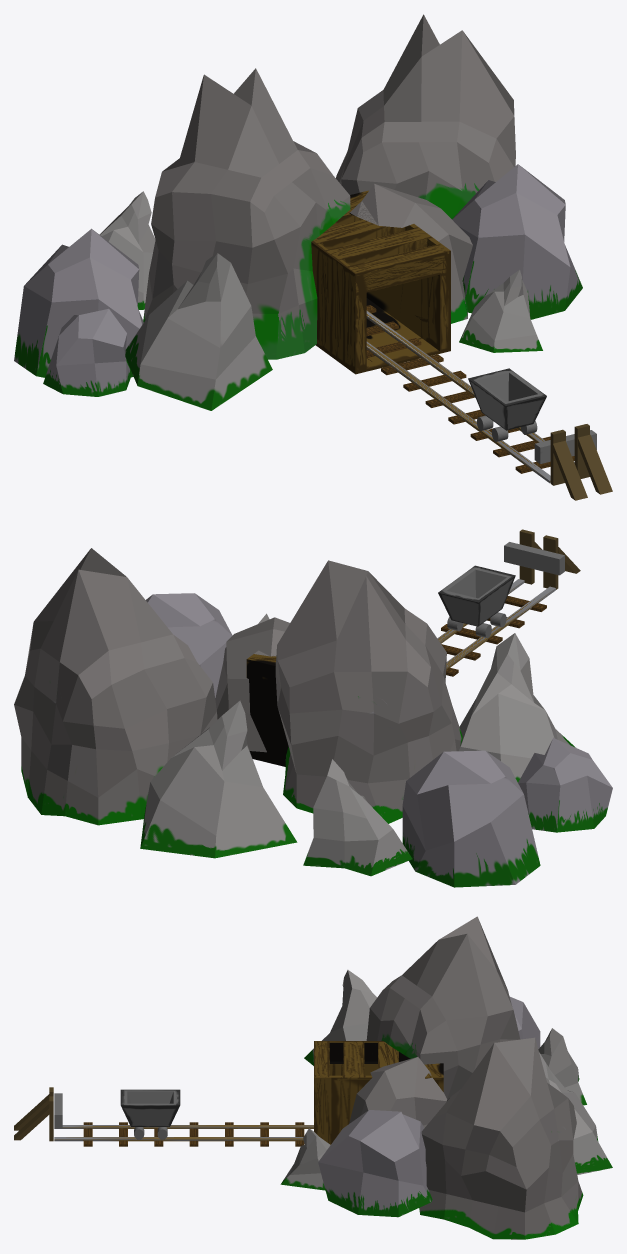
Rendered from Mine.fbx.
The picture shows the model from 3 angles, top to bottom: view 1: azimuth 30°, elevation 25°; view 2: azimuth 150°, elevation 25°; view 3: azimuth 270°, elevation 25°; orthographic projection. The views are drawn at different scales.
Visible parts, largest first — view 1: Cube.001, Cube.004, Cube.010, Cube, Cube.003, Cube.006, Cube.008, Cube.002, Cube.007, Cube.019, Cube.009, Cube.011 (+4 smaller); view 2: Cube.004, Cube.001, Cube.006, Cube.005, Cube, Cube.009, Cube.008, Cube.003, Cube.002, Cube.010, Cube.019, Cube.014 (+5 smaller); view 3: Cube.004, Cube.001, Cube.003, Cube.010, Cube.002, Cube, Cube.005, Cube.019, Cube.007, Cube.009, Cube.011, Cube.013 (+2 smaller).
Part boxes in pixels (x1,y1,x2,y2): Cube.001: [143, 68, 350, 359]; Cube.004: [336, 14, 515, 218]; Cube.010: [311, 190, 450, 374]; Cube: [125, 253, 272, 410]; Cube.003: [452, 164, 582, 319]; Cube.006: [14, 228, 143, 377]; Cube.008: [43, 308, 131, 396]; Cube.002: [349, 184, 472, 323]; Cube.007: [459, 270, 542, 352]; Cube.019: [468, 368, 546, 430]; Cube.009: [99, 191, 155, 309]; Cube.011: [366, 305, 574, 473]; Cube.004: [14, 548, 217, 825]; Cube.001: [275, 560, 462, 823]; Cube.006: [402, 750, 540, 887]; Cube.005: [140, 700, 297, 858]; Cube: [459, 633, 575, 782]; Cube.009: [303, 759, 412, 876]; Cube.008: [518, 738, 612, 832]; Cube.003: [146, 593, 232, 697]; Cube.002: [215, 617, 289, 752]; Cube.010: [246, 654, 288, 766]; Cube.019: [438, 565, 515, 626]; Cube.014: [504, 542, 564, 575]; Cube.004: [419, 1037, 583, 1239]; Cube.001: [366, 916, 520, 1099]; Cube.003: [318, 1110, 432, 1217]; Cube.010: [314, 1041, 443, 1144]; Cube.002: [349, 1057, 447, 1127]; Cube: [304, 970, 377, 1065]; Cube.005: [539, 1052, 612, 1174]; Cube.019: [120, 1089, 180, 1126]; Cube.007: [280, 1128, 330, 1190]; Cube.009: [538, 1028, 586, 1105]; Cube.011: [83, 1122, 304, 1146]; Cube.013: [54, 1137, 303, 1141].
Size of the model in its own units: 1013 by 487 by 1269.
Materials: 21 (21 with a texture image).
